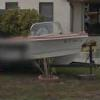Boat: (13, 25, 100, 76)
